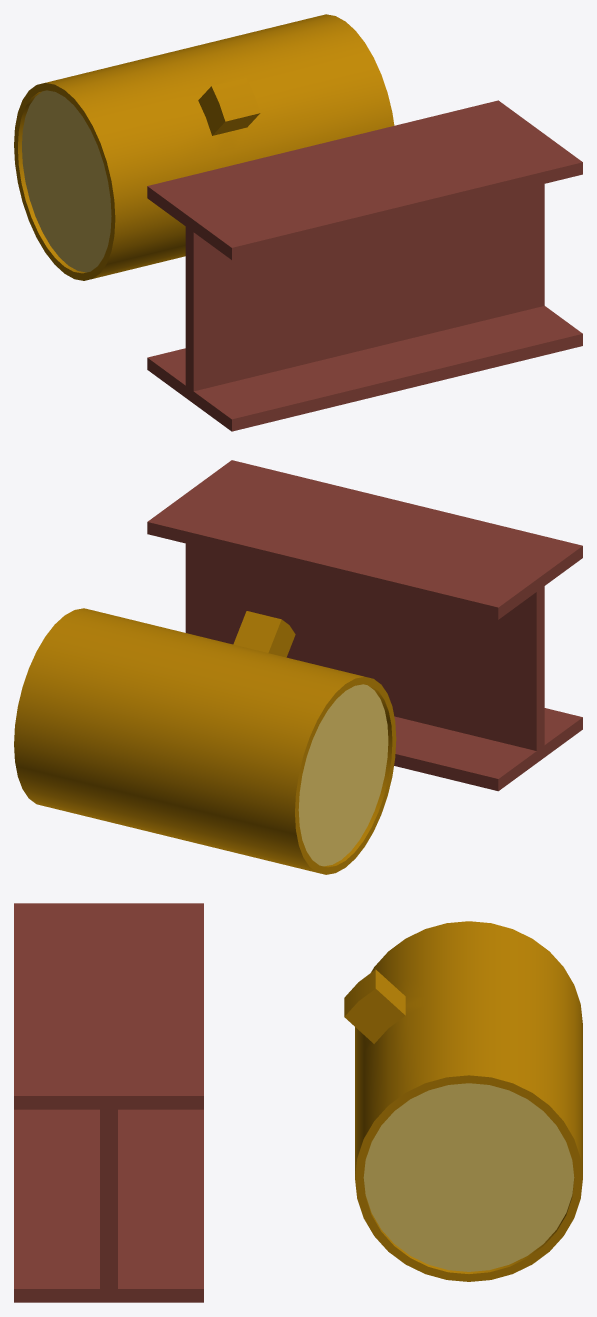
The model's file is iron_tree4.fbx.
The picture shows the model from 3 angles, top to bottom: view 1: azimuth 30°, elevation 25°; view 2: azimuth 150°, elevation 25°; view 3: azimuth 270°, elevation 25°; orthographic projection. The views are drawn at different scales.
Visible parts, largest first — view 1: Cube.001, Cylinder; view 2: Cube.001, Cylinder; view 3: Cube.001, Cylinder.
Part boxes in pixels (x1,y1,x2,y2): Cube.001: (147, 100, 582, 431); Cylinder: (14, 14, 394, 280); Cube.001: (147, 460, 582, 791); Cylinder: (14, 608, 396, 874); Cube.001: (14, 903, 203, 1302); Cylinder: (344, 921, 582, 1281).
Bounding box in the file's own units: 200 × 105 × 250.
